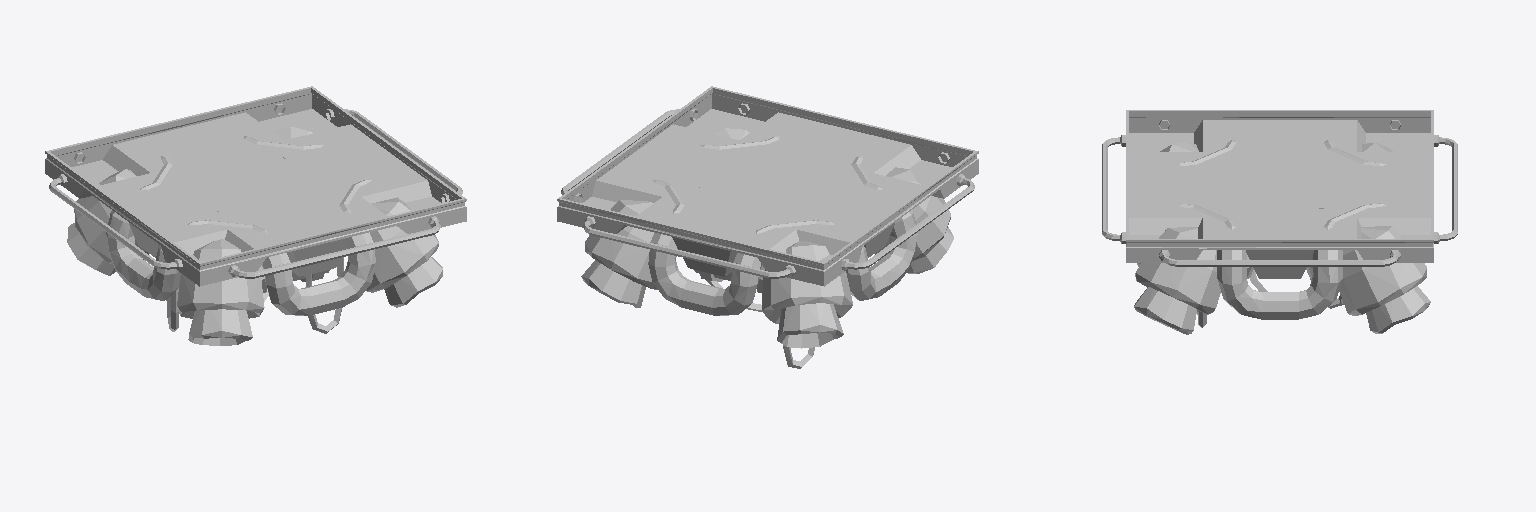
The model's file is ArenaPlatform.obj.
3 views of the same model, side by side, from view 1: azimuth 30°, elevation 25°; view 2: azimuth 150°, elevation 25°; view 3: azimuth 270°, elevation 25° (orthographic).
Visible parts, largest first — view 1: SM_Env_Ground_Tile_Floating_Platform_01; view 2: SM_Env_Ground_Tile_Floating_Platform_01; view 3: SM_Env_Ground_Tile_Floating_Platform_01.
Part boxes in pixels (bbox=[...]): SM_Env_Ground_Tile_Floating_Platform_01: bbox=[45, 86, 466, 345]; SM_Env_Ground_Tile_Floating_Platform_01: bbox=[557, 86, 978, 368]; SM_Env_Ground_Tile_Floating_Platform_01: bbox=[1102, 110, 1457, 334].
Size of the model in its own units: 2 by 1 by 2.